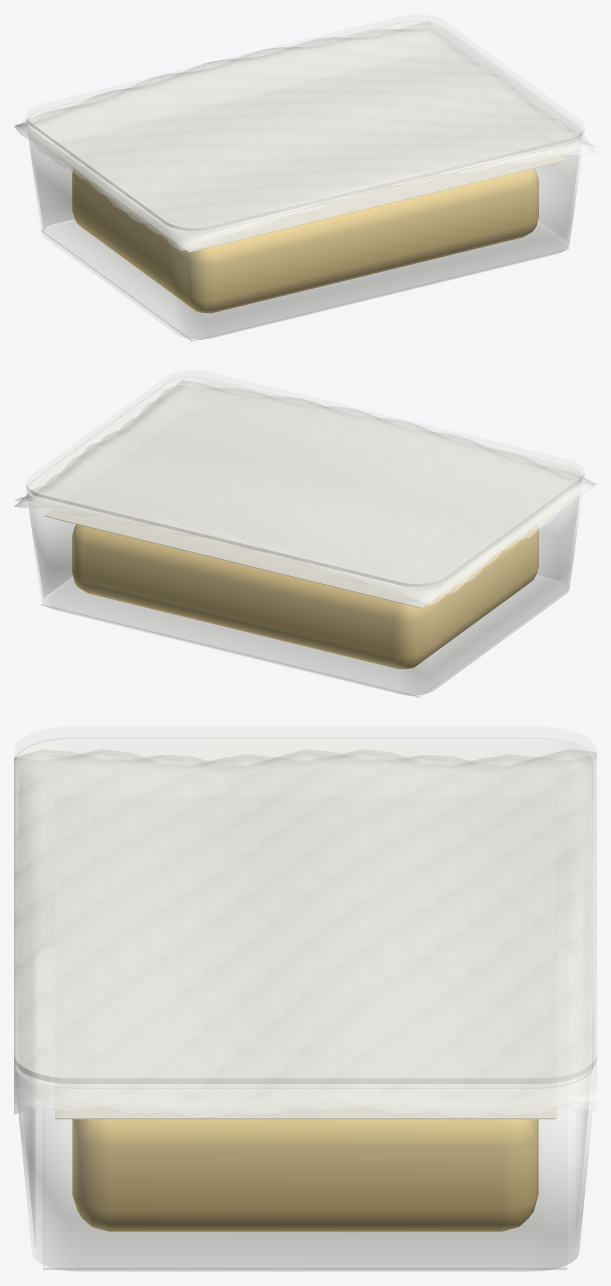
3 renders of one model, top to bottom at view 1: azimuth 30°, elevation 25°; view 2: azimuth 150°, elevation 25°; view 3: azimuth 270°, elevation 25°, orthographic. The views are drawn at different scales.
Parts seen in each view (by area): view 1: clear hinged cover, loose film fold -1, loose film fold 1, continuous rounded tapered body, thin pale liner, cheese portion, body bottom; view 2: clear hinged cover, loose film fold 1, loose film fold -1, continuous rounded tapered body, thin pale liner, cheese portion, body bottom; view 3: clear hinged cover, loose film fold 1, loose film fold -1, thin pale liner, continuous rounded tapered body, cheese portion, body bottom.
Boxes of the visible parts, x1,y1,x2,y2 form: clear hinged cover: (26, 14, 584, 230); loose film fold -1: (14, 29, 596, 250); loose film fold 1: (14, 22, 596, 250); continuous rounded tapered body: (26, 21, 584, 339); thin pale liner: (45, 55, 565, 252); cheese portion: (72, 168, 538, 313); body bottom: (41, 221, 569, 341); clear hinged cover: (26, 370, 584, 586); loose film fold 1: (14, 387, 596, 603); loose film fold -1: (14, 380, 596, 605); continuous rounded tapered body: (26, 377, 584, 695); thin pale liner: (45, 411, 565, 608); cheese portion: (72, 524, 538, 669); body bottom: (41, 577, 569, 697); clear hinged cover: (14, 726, 596, 1083); loose film fold 1: (14, 750, 596, 1115); loose film fold -1: (14, 750, 596, 1117); thin pale liner: (55, 798, 556, 1119); continuous rounded tapered body: (14, 738, 596, 1271); cheese portion: (72, 1119, 538, 1231); body bottom: (43, 1108, 567, 1269).
Bounding box in the file's own units: 0.1885 × 0.0521 × 0.132.
